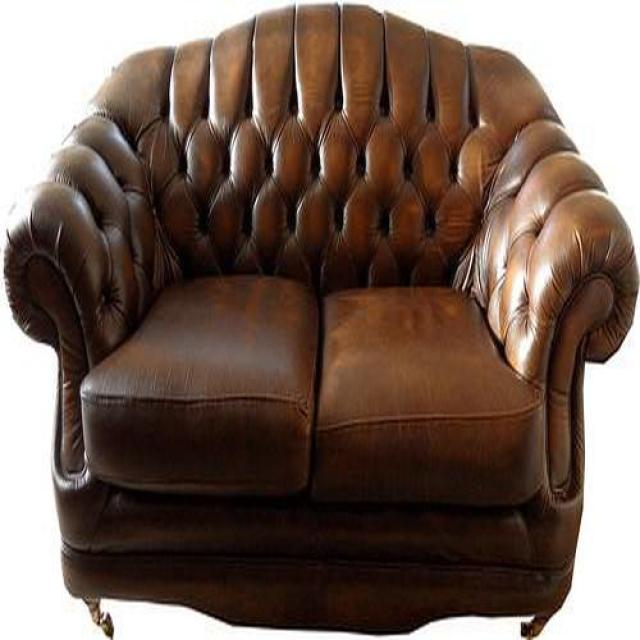sofa: (0, 5, 640, 640)
